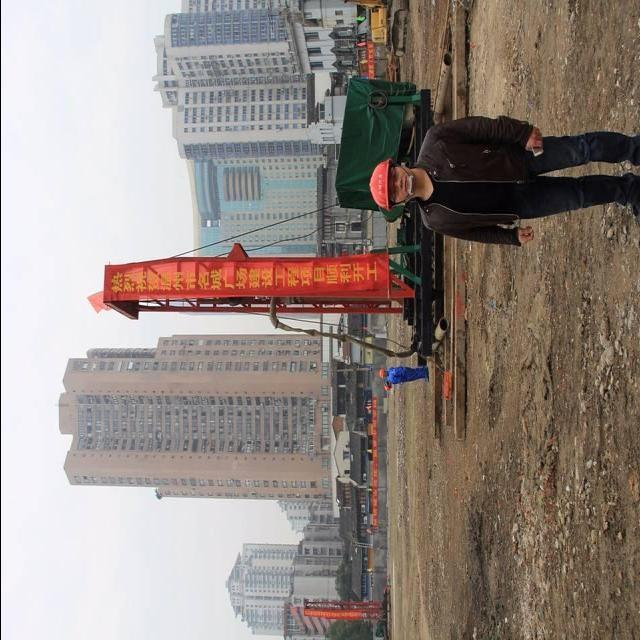helmet: (359, 150, 395, 222)
